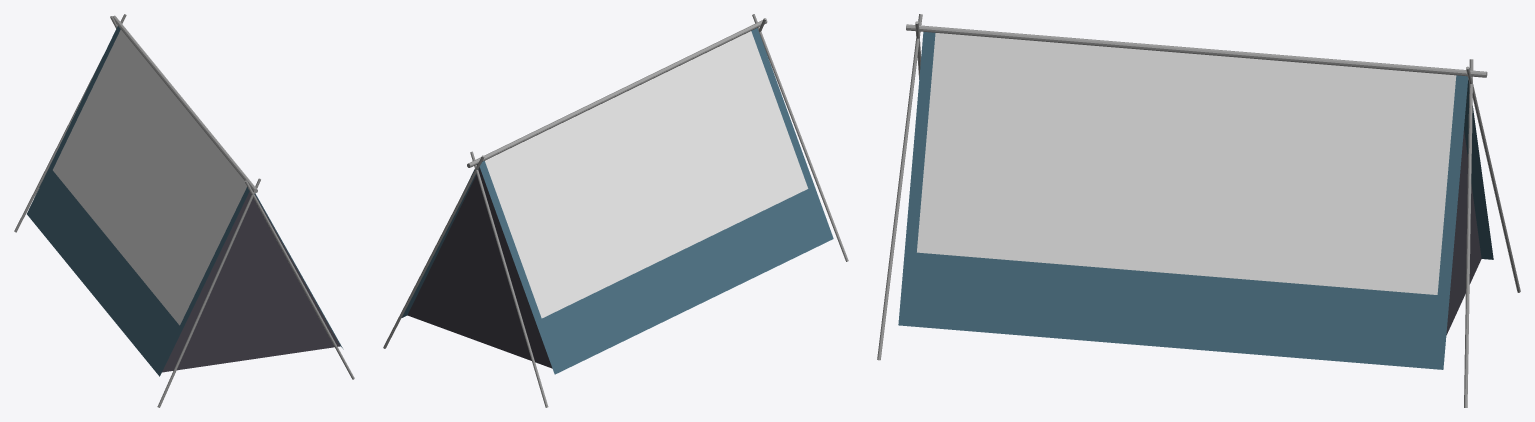
The model's file is tent.glb.
3 views of the same model, side by side, from view 1: azimuth 30°, elevation 25°; view 2: azimuth 150°, elevation 25°; view 3: azimuth 270°, elevation 25° (orthographic). The views are drawn at different scales.
Parts seen in each view (by area): view 1: Object_9, Object_10, Object_8, Object_11; view 2: Object_9, Object_8, Object_10, Object_11; view 3: Object_9, Object_8, Object_11, Object_10.
Part boxes in pixels (x1,y1,x2,y2): Object_9: (53,29,246,325); Object_10: (162,190,340,372); Object_8: (27,26,343,376); Object_11: (14,14,354,407); Object_9: (485,31,808,318); Object_8: (401,28,833,374); Object_10: (407,168,552,368); Object_11: (383,14,848,407); Object_9: (917,33,1456,294); Object_8: (898,32,1493,369); Object_11: (877,14,1520,407); Object_10: (1446,130,1481,335).
Bounding box in the file's own units: 3.69 × 2.97 × 6.05.
